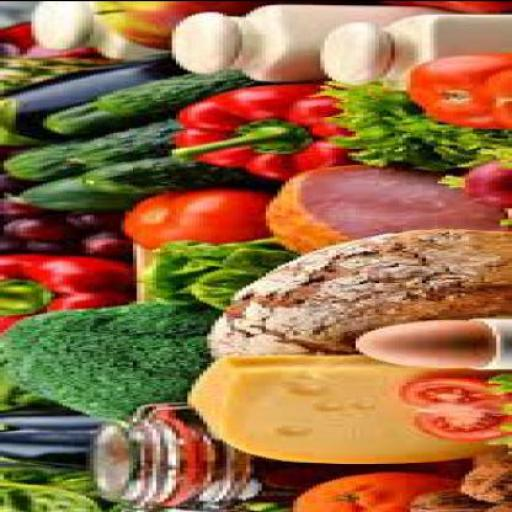biodegradable: (200, 232, 508, 358), (180, 356, 508, 465), (0, 304, 214, 422), (258, 164, 508, 254), (153, 82, 352, 180), (309, 84, 508, 176), (0, 54, 180, 147), (0, 256, 129, 336), (141, 240, 297, 306), (118, 190, 278, 252), (226, 460, 418, 505), (82, 2, 261, 50), (82, 69, 250, 119), (402, 56, 508, 130), (395, 379, 508, 442), (284, 474, 472, 511), (352, 320, 496, 368), (74, 156, 242, 195), (54, 120, 172, 166), (12, 177, 132, 213), (31, 104, 152, 137), (0, 467, 87, 510), (0, 23, 98, 61), (0, 429, 94, 468), (0, 143, 79, 182), (0, 408, 98, 433), (457, 162, 508, 208), (457, 466, 508, 504), (406, 488, 490, 510), (379, 1, 508, 15), (480, 70, 508, 133), (0, 219, 66, 241), (58, 212, 118, 230), (78, 237, 125, 257), (469, 444, 508, 468), (0, 198, 39, 217), (20, 241, 74, 251), (476, 503, 510, 511), (0, 239, 16, 252)
glass: (86, 410, 457, 511)
